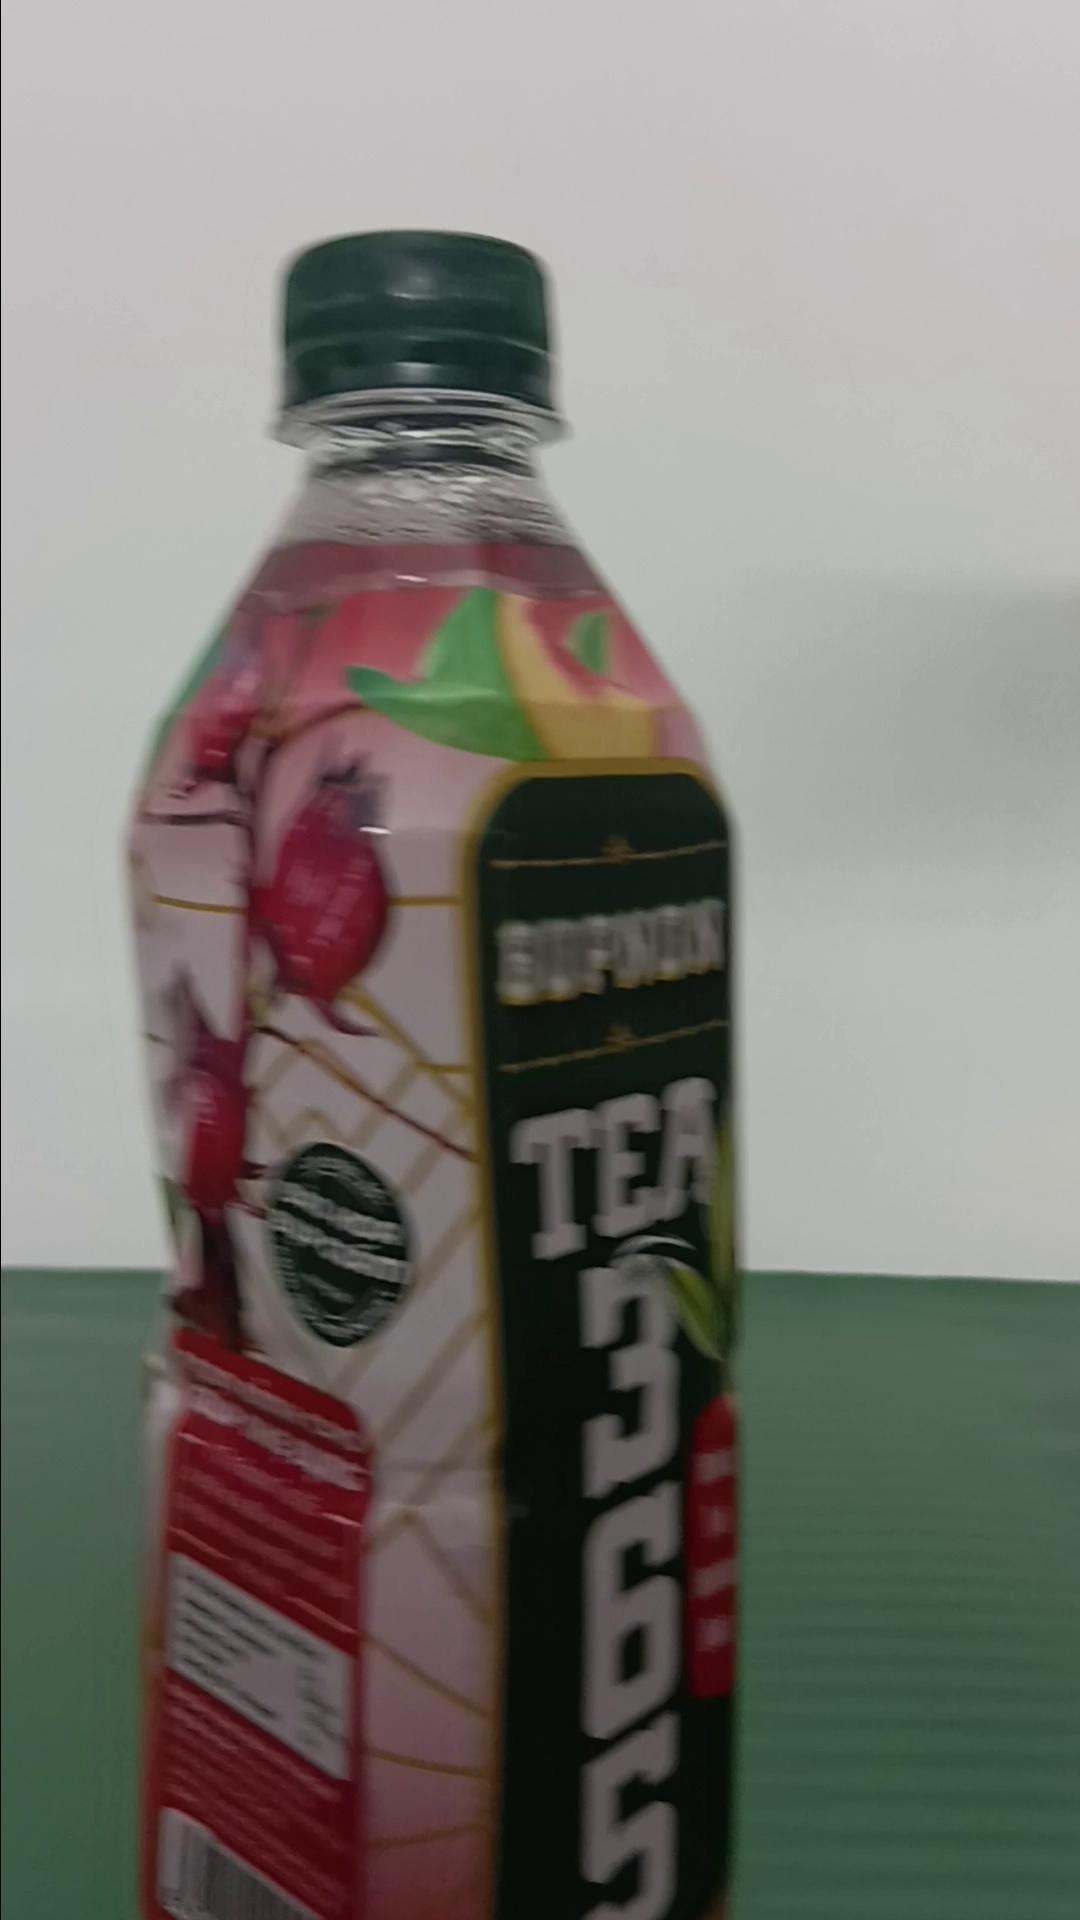loi meo sp: (121, 225, 748, 1916)
